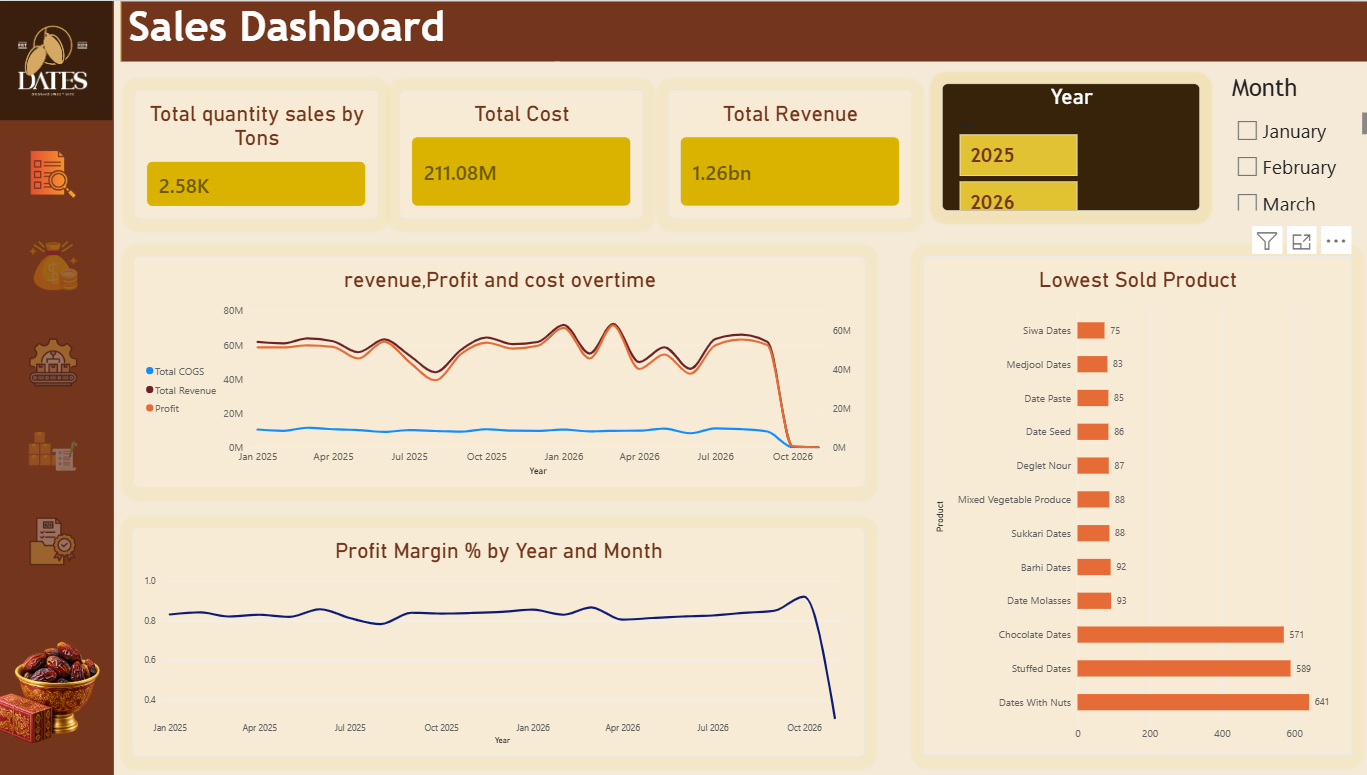

Layout of this report page (visuals, bound fields, positions):
{"tool":"powerbi","page":{"name":"Sales Overview","canvas":[1920,1080],"ordinal":0},"visuals":[{"type":"shape","box":[180,0,1741,85],"z":0},{"type":"shape","box":[0,0,170,1081],"z":1000},{"type":"image","box":[0,0,169.9,166.4],"z":2000},{"type":"textbox","title":"Sales Dashboard","box":[190.1,0,602.5,85],"z":3000},{"type":"lineChart","title":"revenue,Profit and cost overtime","fields":{"Category":["DateDim.Date.Variation.Date Hierarchy.Year","DateDim.Date.Variation.Date Hierarchy.Month"],"Y":["MyMeasures.Total COGS","MyMeasures.Total Revenue"],"Y2":["MyMeasures.Profit"]},"box":[196.7,355,1021.7,323.3],"z":4000},{"type":"cardVisual","title":"Total Cost","fields":{"Data":["MyMeasures.Total COGS"]},"box":[568,124,340,180],"z":5000},{"type":"image","box":[0,844.2,150,235.7],"z":6000},{"type":"slicer","title":"Year","fields":{"Values":["DateDim.Date.Variation.Date Hierarchy.Year"]},"box":[1325,115,360,177.5],"z":7000},{"type":"barChart","title":"Lowest Sold Product","fields":{"Category":["productDim.Product"],"Y":["MyMeasures.TotalSale"]},"box":[1300,355,597.5,697.5],"z":8000},{"type":"cardVisual","title":"Total quantity sales by Tons","fields":{"Data":["MyMeasures.TotalSale"]},"box":[199.6,124.4,340,180],"z":9000},{"type":"cardVisual","title":"Total Revenue","fields":{"Data":["MyMeasures.Total Revenue"]},"box":[944,124,340,180],"z":10000},{"type":"lineChart","fields":{"Category":["DateDim.Date.Variation.Date Hierarchy.Year","DateDim.Date.Variation.Date Hierarchy.Month"],"Y":["MyMeasures.Profit Margin %"]},"box":[196,734,1022,320],"z":11000},{"type":"actionButton","box":[50.6,190.1,69.8,102.9],"z":12000},{"type":"actionButton","box":[50.6,319.2,69.8,102],"z":13000},{"type":"actionButton","box":[50.6,453.5,69.8,102],"z":14000},{"type":"actionButton","box":[50.6,577.3,69,102],"z":15000},{"type":"actionButton","box":[50.6,702.9,69,102],"z":16000},{"type":"slicer","title":"Month","fields":{"Values":["DateDim.Date.Variation.Date Hierarchy.Month"]},"box":[1731.1,100.9,189.4,191.4],"z":17000}]}

Visuals, with their boxes on the page's 1920x1080 design canvas (x1, y1, x2, y2). These are canvas units, not pixel positions in the 1367x775 screenshot, which may show the page scaled, cropped or inside an application window:
shape: box=[180, 0, 1921, 85]
shape: box=[0, 0, 170, 1081]
image: box=[0, 0, 170, 166]
"Sales Dashboard" textbox: box=[190, 0, 793, 85]
"revenue,Profit and cost overtime" lineChart: box=[197, 355, 1218, 678]
"Total Cost" cardVisual: box=[568, 124, 908, 304]
image: box=[0, 844, 150, 1080]
"Year" slicer: box=[1325, 115, 1685, 292]
"Lowest Sold Product" barChart: box=[1300, 355, 1898, 1052]
"Total quantity sales by Tons" cardVisual: box=[200, 124, 540, 304]
"Total Revenue" cardVisual: box=[944, 124, 1284, 304]
lineChart - DateDim.Date.Variation.Date Hierarchy.Year x DateDim.Date.Variation.Date Hierarchy.Month: box=[196, 734, 1218, 1054]
actionButton: box=[51, 190, 120, 293]
actionButton: box=[51, 319, 120, 421]
actionButton: box=[51, 454, 120, 556]
actionButton: box=[51, 577, 120, 679]
actionButton: box=[51, 703, 120, 805]
"Month" slicer: box=[1731, 101, 1920, 292]
